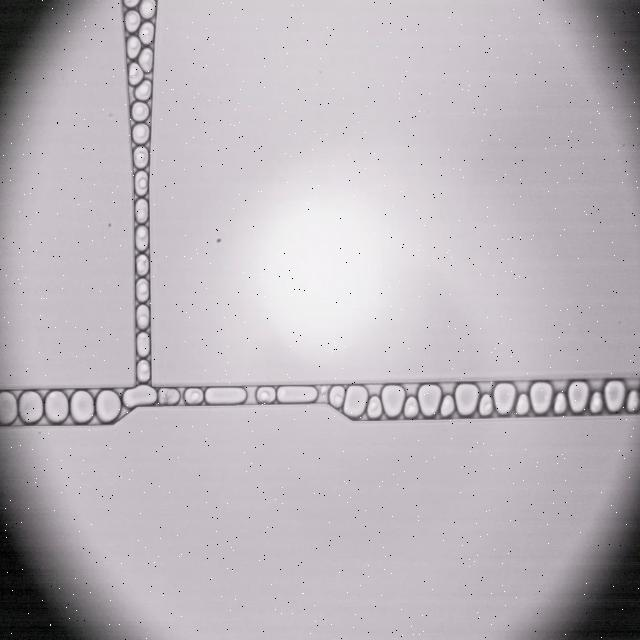L: (125, 11, 141, 32), (139, 48, 153, 72), (329, 386, 344, 408), (367, 396, 382, 418), (132, 102, 149, 121), (129, 62, 143, 85), (135, 80, 151, 100), (133, 124, 149, 144), (159, 388, 179, 404), (134, 147, 149, 168), (134, 171, 147, 195), (135, 199, 148, 223), (135, 226, 148, 250), (136, 305, 149, 329), (136, 332, 149, 356), (139, 22, 153, 44), (127, 36, 141, 58), (136, 360, 150, 382), (404, 396, 418, 418), (479, 394, 493, 416), (626, 390, 640, 412), (136, 278, 149, 301), (185, 388, 203, 404), (257, 387, 275, 403), (141, 0, 156, 19), (136, 254, 149, 275), (441, 395, 454, 416), (516, 394, 529, 415), (590, 392, 603, 413), (554, 393, 566, 414), (123, 0, 139, 7)
S: (455, 384, 479, 416), (19, 392, 43, 423), (343, 386, 367, 417), (418, 384, 441, 416), (123, 385, 156, 407), (96, 391, 119, 422), (71, 390, 93, 422), (382, 385, 404, 417), (205, 387, 246, 404), (45, 392, 68, 422), (493, 383, 515, 414), (530, 382, 552, 413), (277, 386, 317, 403), (604, 380, 625, 412), (568, 382, 588, 413), (0, 391, 17, 425)
